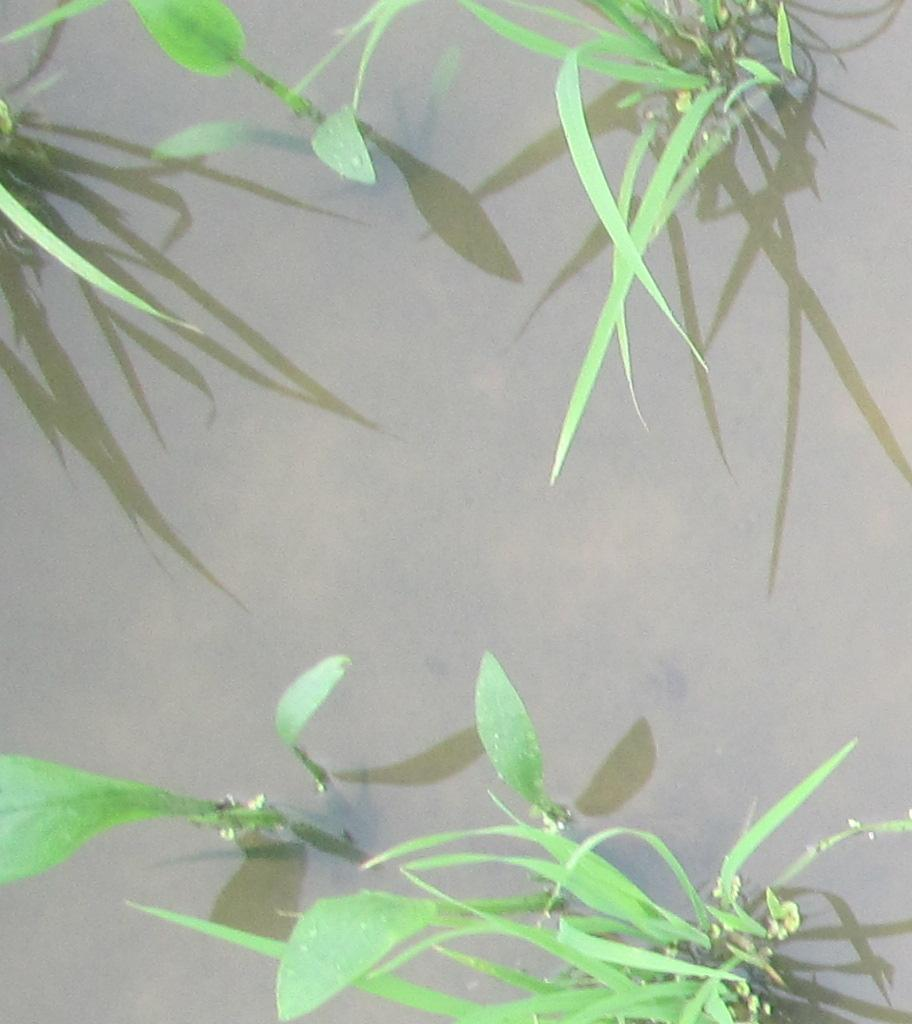Weed: (2, 653, 583, 839), (121, 1, 380, 194)
